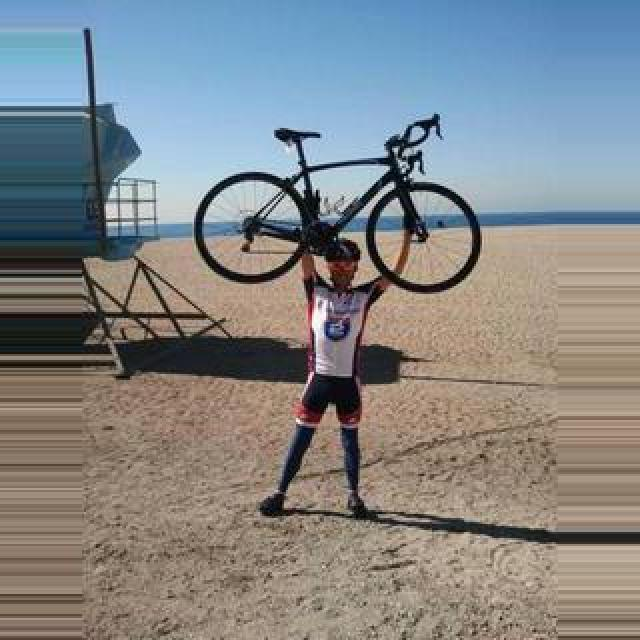MC-Bike: (262, 236, 388, 520)
Person: (187, 119, 481, 295)
